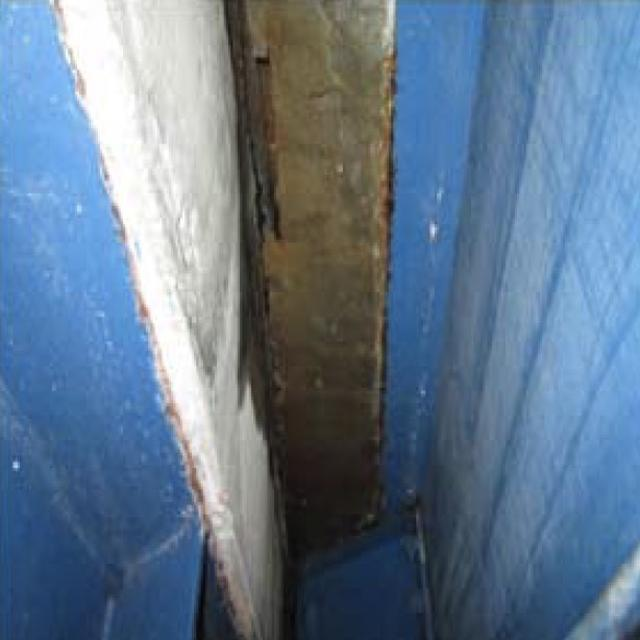leakage: (231, 21, 400, 536)
